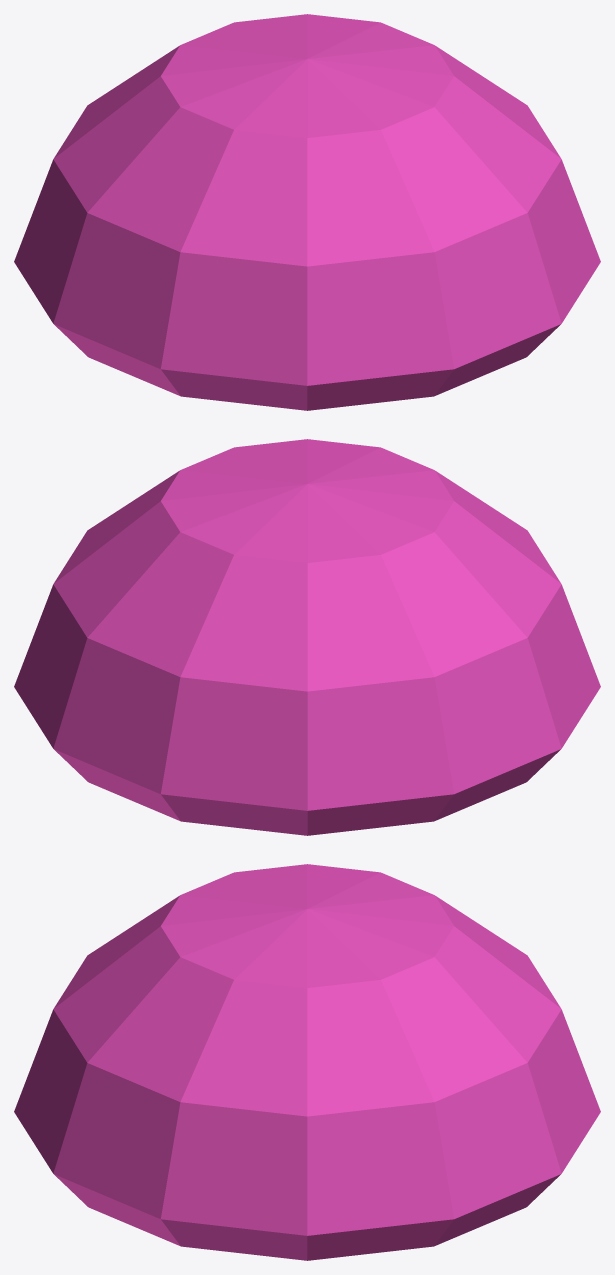
Rendered from Mushroom Cap.fbx.
3 renders of one model, top to bottom at view 1: azimuth 30°, elevation 25°; view 2: azimuth 150°, elevation 25°; view 3: azimuth 270°, elevation 25°, orthographic.
Visible parts, largest first — view 1: Mushroom Cap; view 2: Mushroom Cap; view 3: Mushroom Cap.
Boxes of the visible parts, x1,y1,x2,y2 form: Mushroom Cap: [14, 14, 600, 410]; Mushroom Cap: [14, 439, 600, 835]; Mushroom Cap: [14, 864, 600, 1260].
Bounding box in the file's own units: 2 × 0.9209 × 2.
